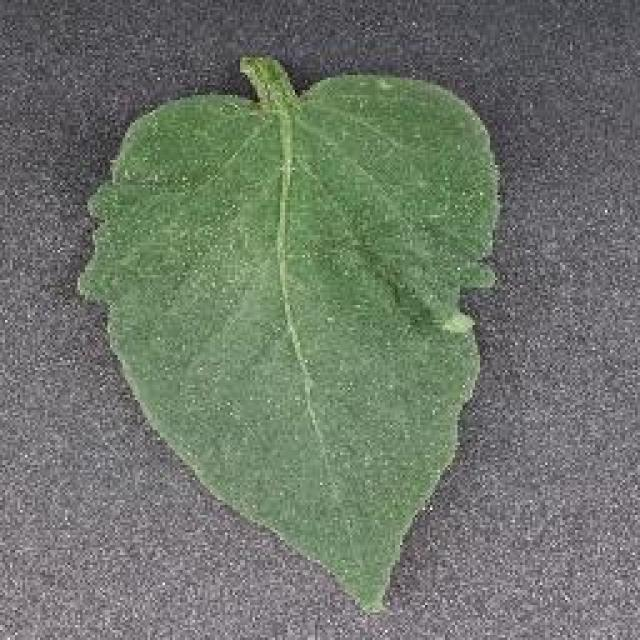Tomato___healthy: (72, 54, 504, 622)
